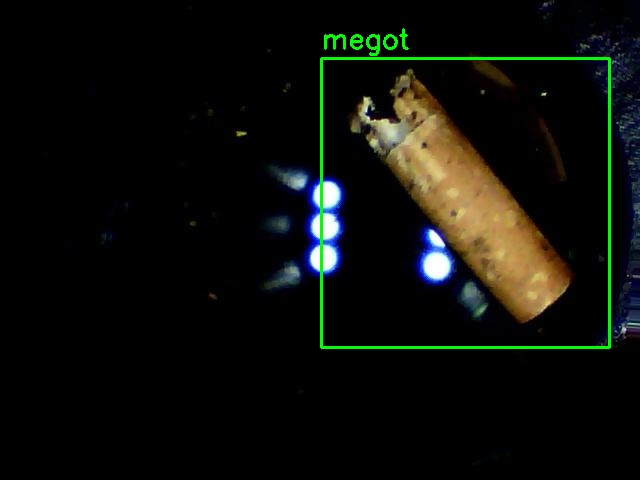megot: (321, 58, 609, 347)
